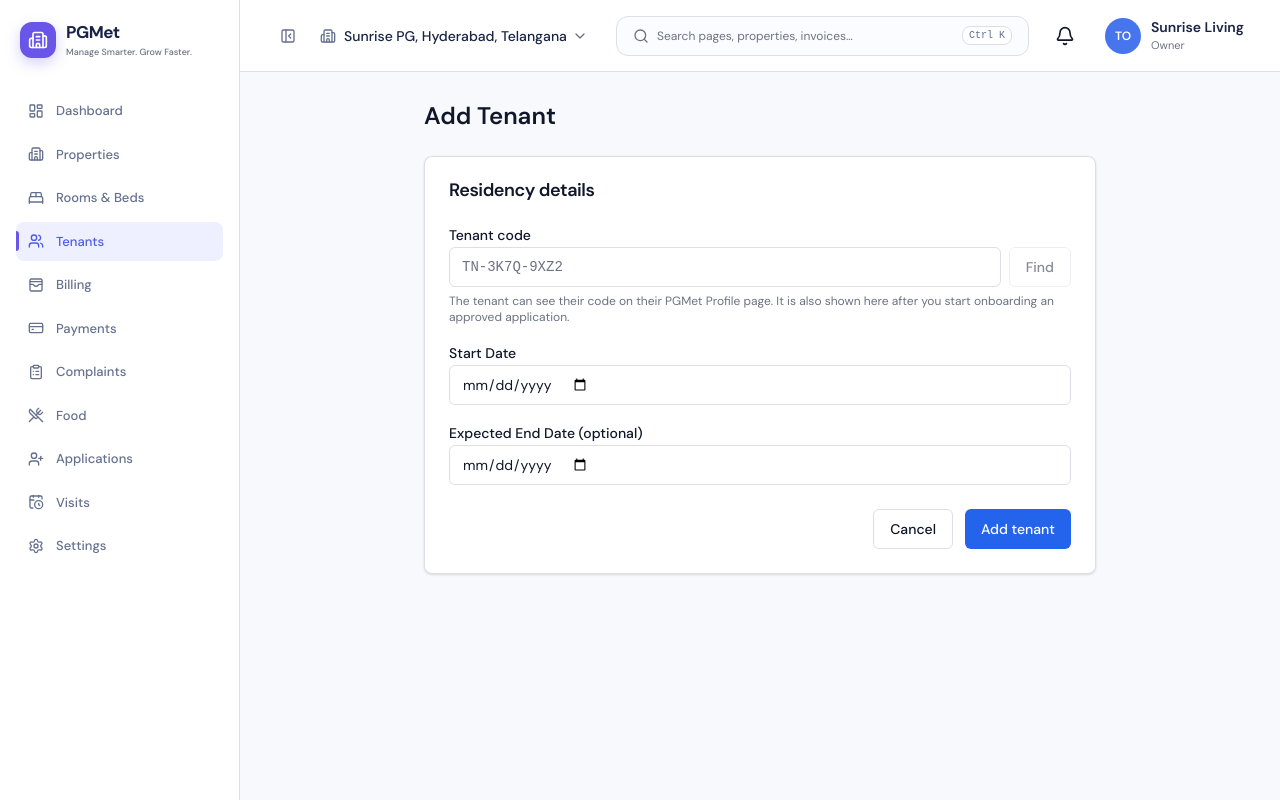
Test case: Add Tenant (residency create) with tenant codes › explains an unknown code and does not submit
Type "TN-0000-0000" into the field labelled "Tenant code".
click(725, 267); type("TN-0000-0000")  # box [449,247,1001,287]
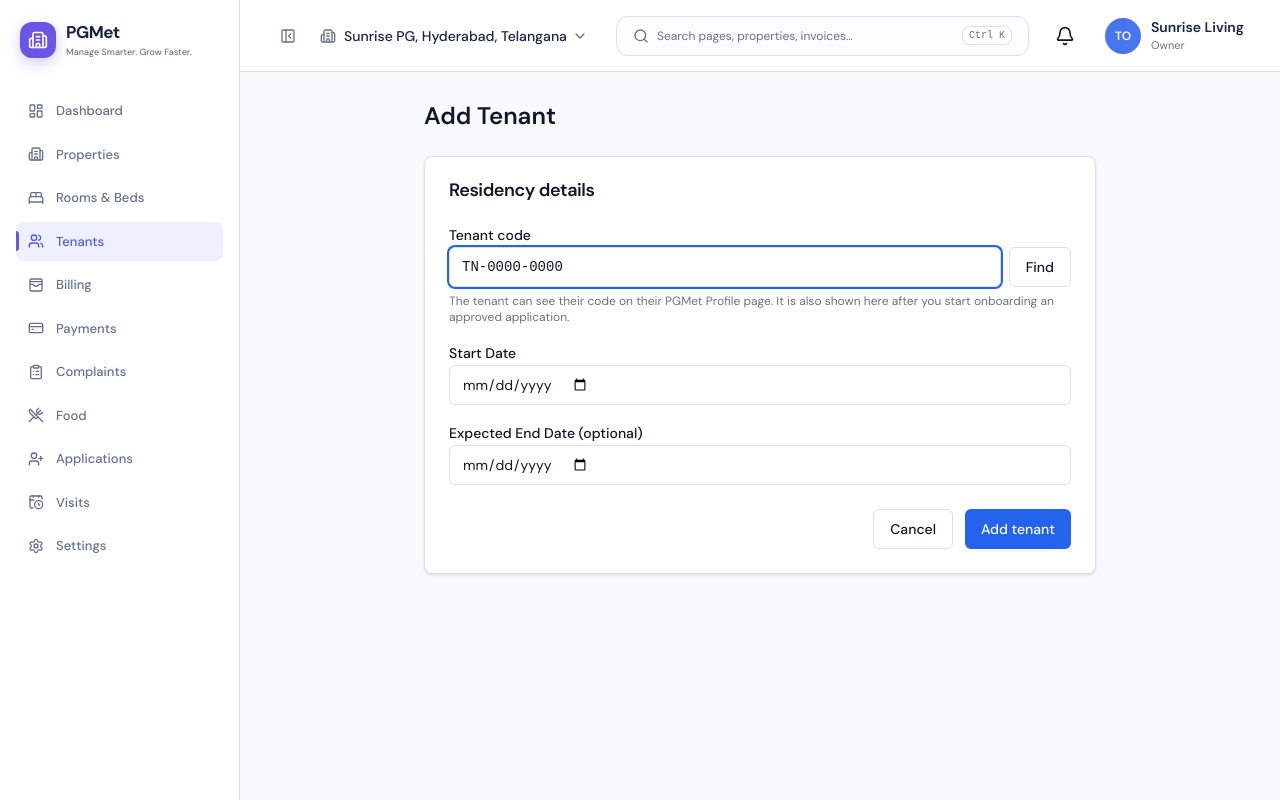
Type "2026-10-01" into the date field labelled "Start Date".
click(760, 385); type("2026-10-01")  # box [449,365,1071,405]
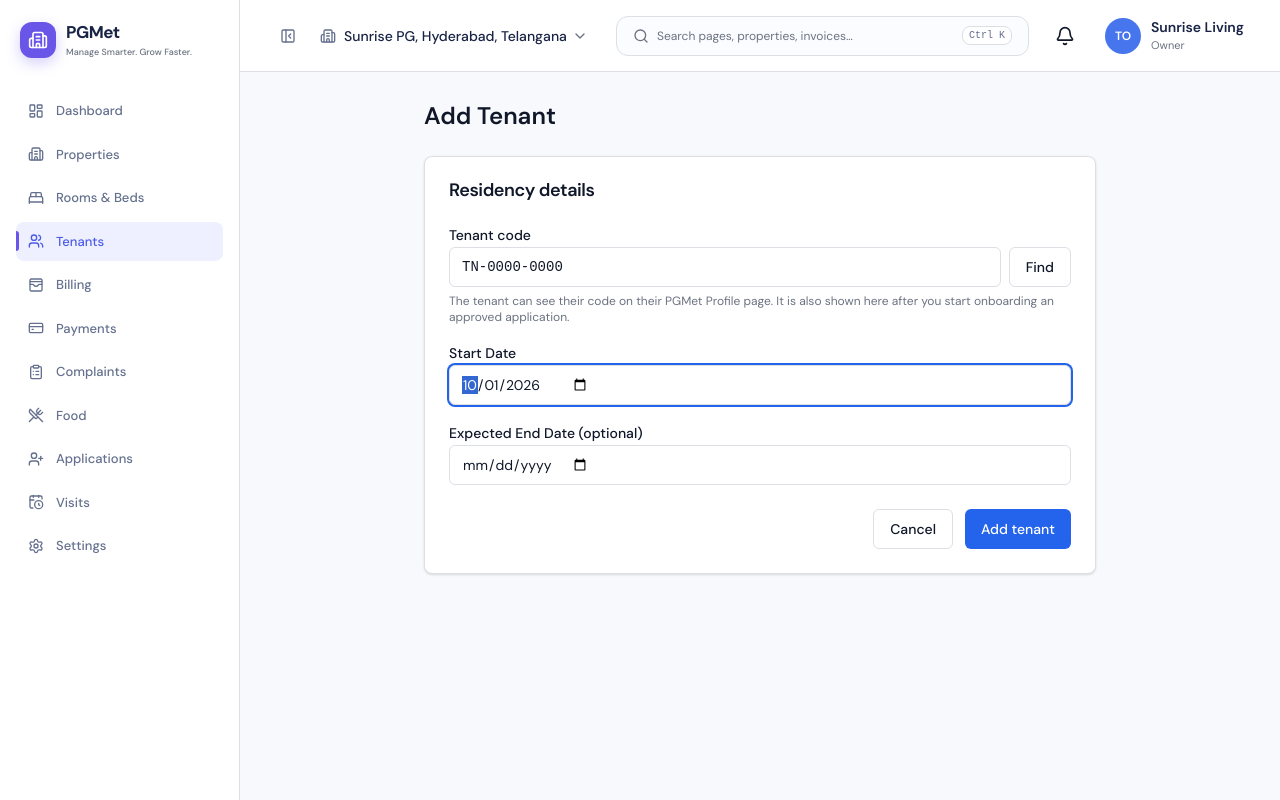
Click the button "Add tenant".
click(1018, 529)  # box [965,509,1071,549]
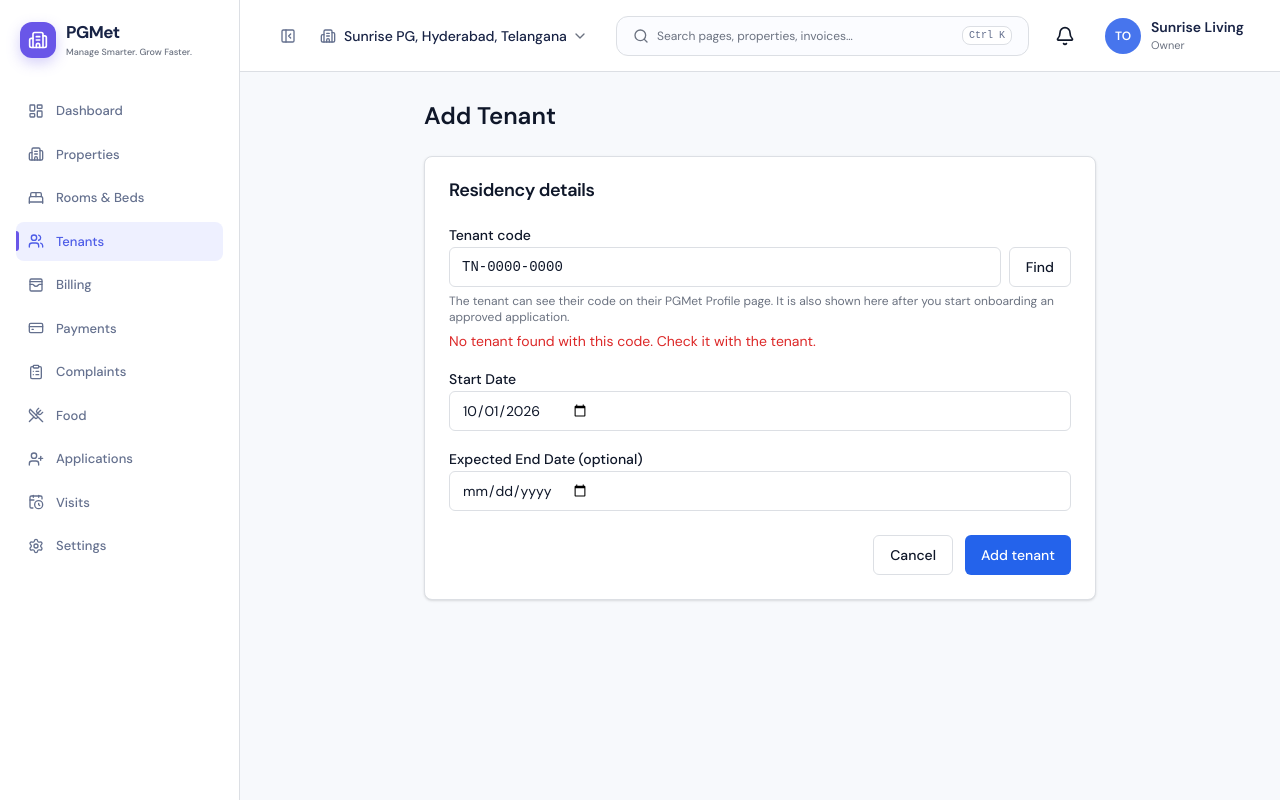
Check: the text "No tenant found with this code. Check it with the tenant." is shown, box [449,332,816,350]
